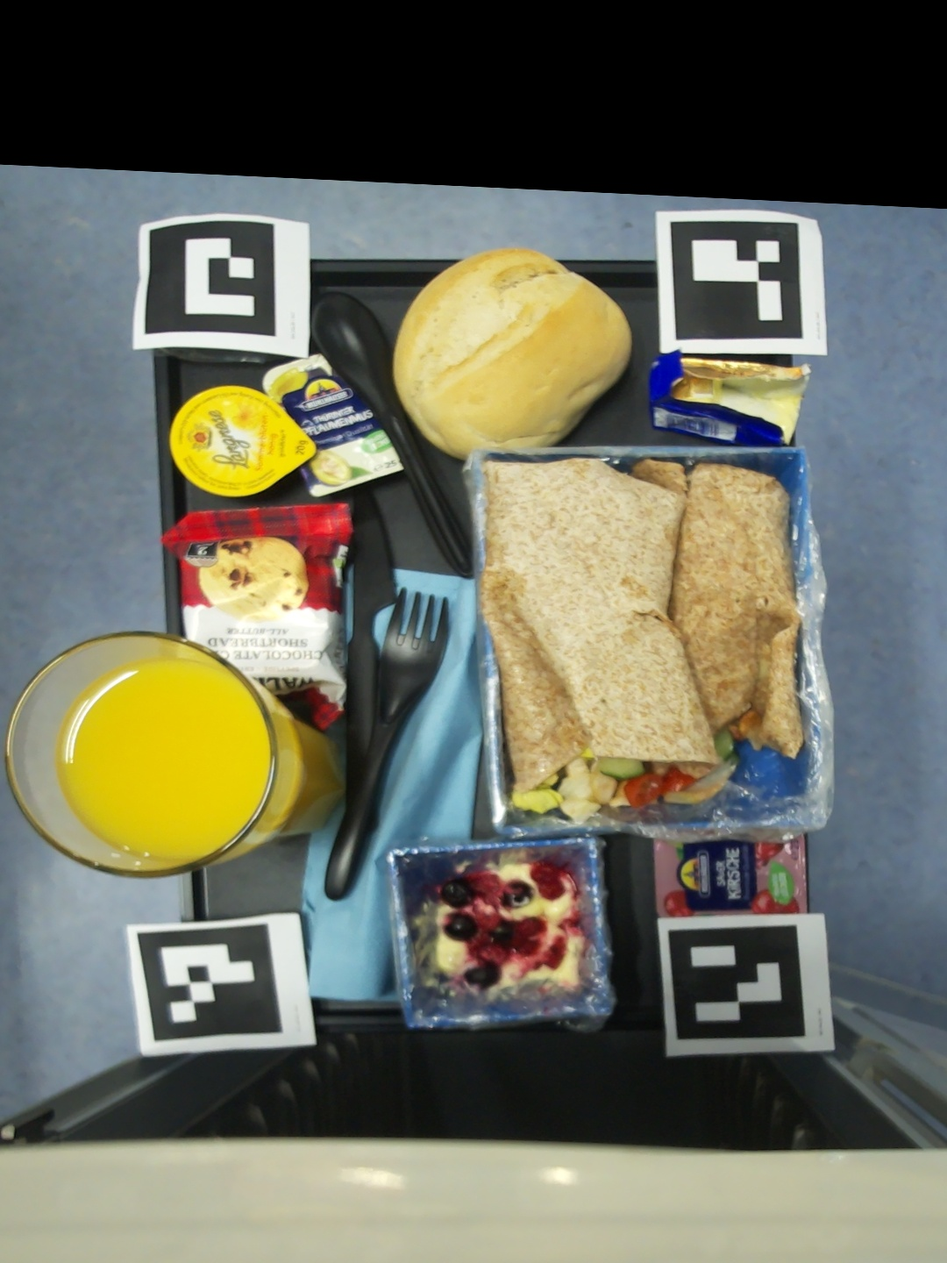bread_roll: (394, 248, 633, 459)
cherry_jam: (655, 832, 806, 917)
cookie: (161, 503, 353, 731)
honey: (169, 386, 317, 497), (649, 350, 813, 445)
orange_juice_bottle: (4, 632, 342, 880)
plum_jam: (262, 352, 402, 497)
vanilla_pudding_with_fruits: (435, 855, 586, 997)
wrap_half_1: (480, 457, 737, 825)
wrap_half_2: (668, 462, 804, 764)
